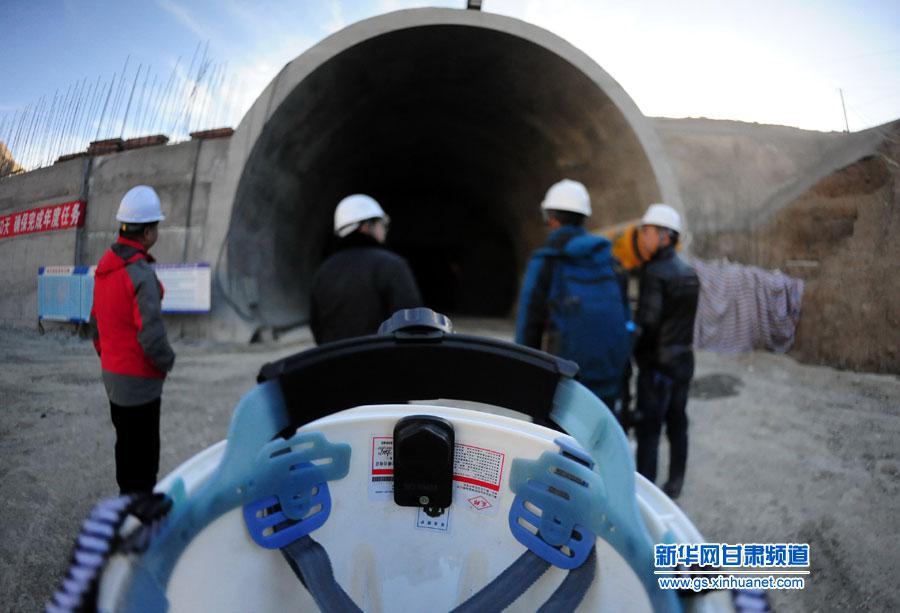helmet: (112, 177, 168, 249), (330, 188, 398, 247), (537, 176, 595, 235), (634, 198, 690, 257)
